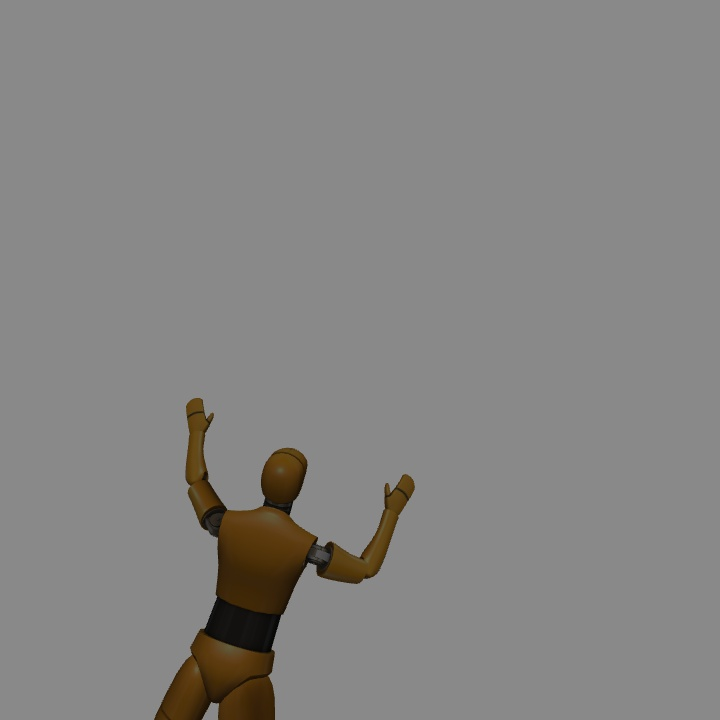victim: (186, 399, 416, 720)
